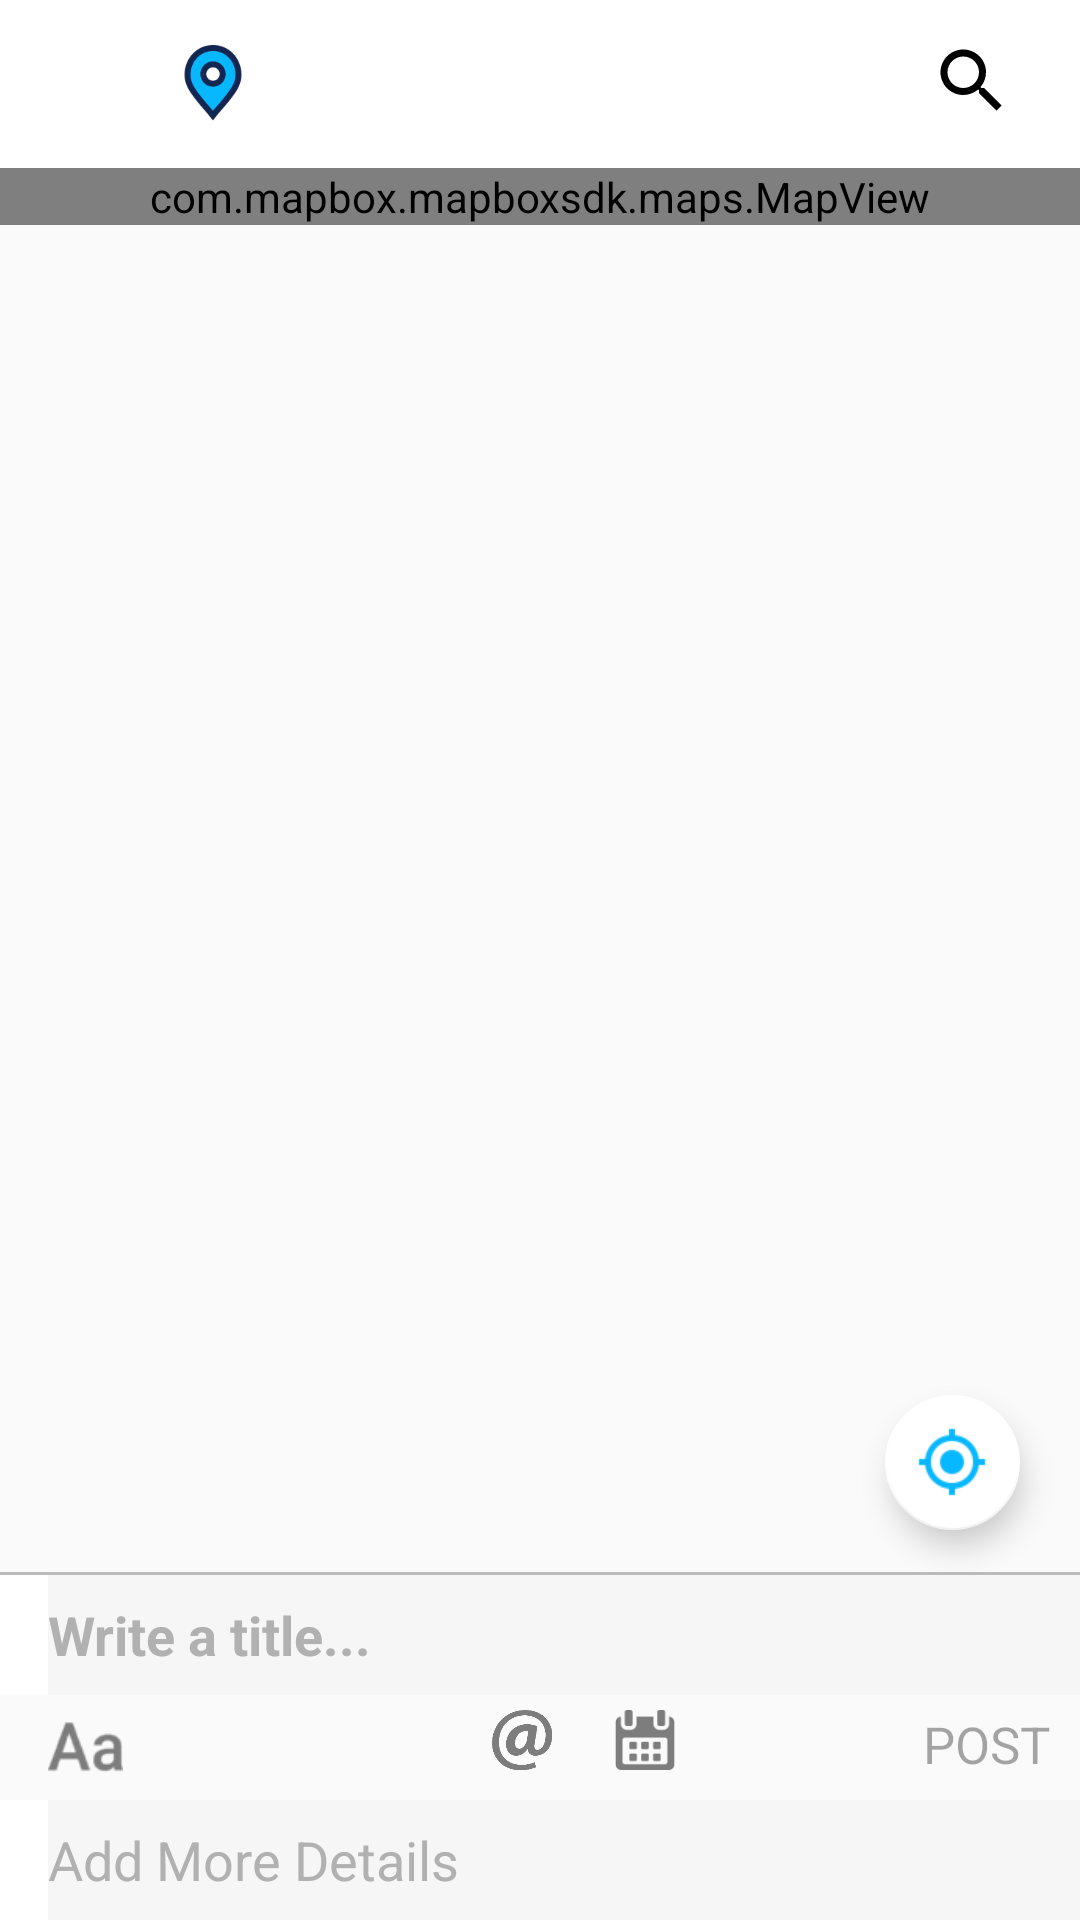

Locate icon controls on the screen. Image size 1080×1920, boxes as (x1, y1, x2, y2).
attherate: (492, 1710, 552, 1770)
calendar: (615, 1710, 675, 1770)
center: (918, 1428, 986, 1496)
location border: (184, 45, 242, 121)
search: (940, 49, 1002, 111)
show text: (48, 1722, 123, 1771)
